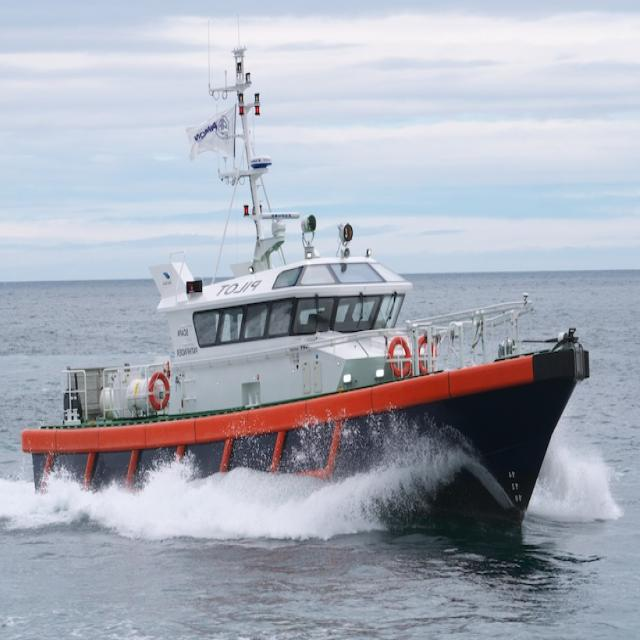houseboat: (38, 42, 591, 549)
